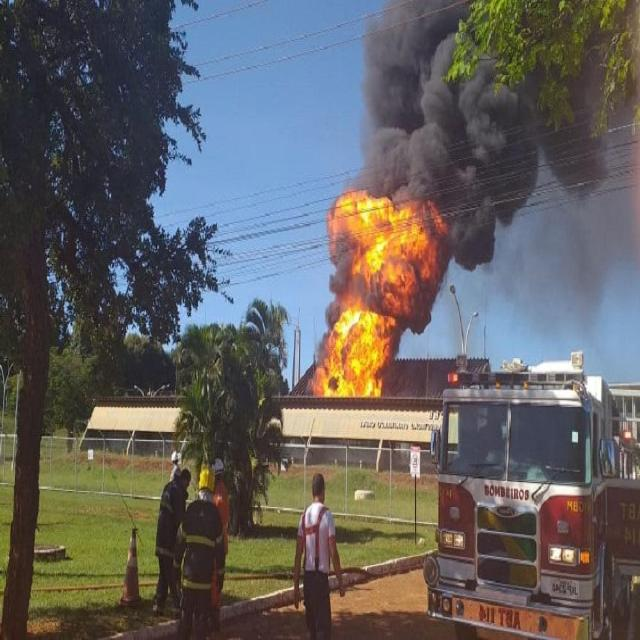Fire: (310, 173, 446, 401)
